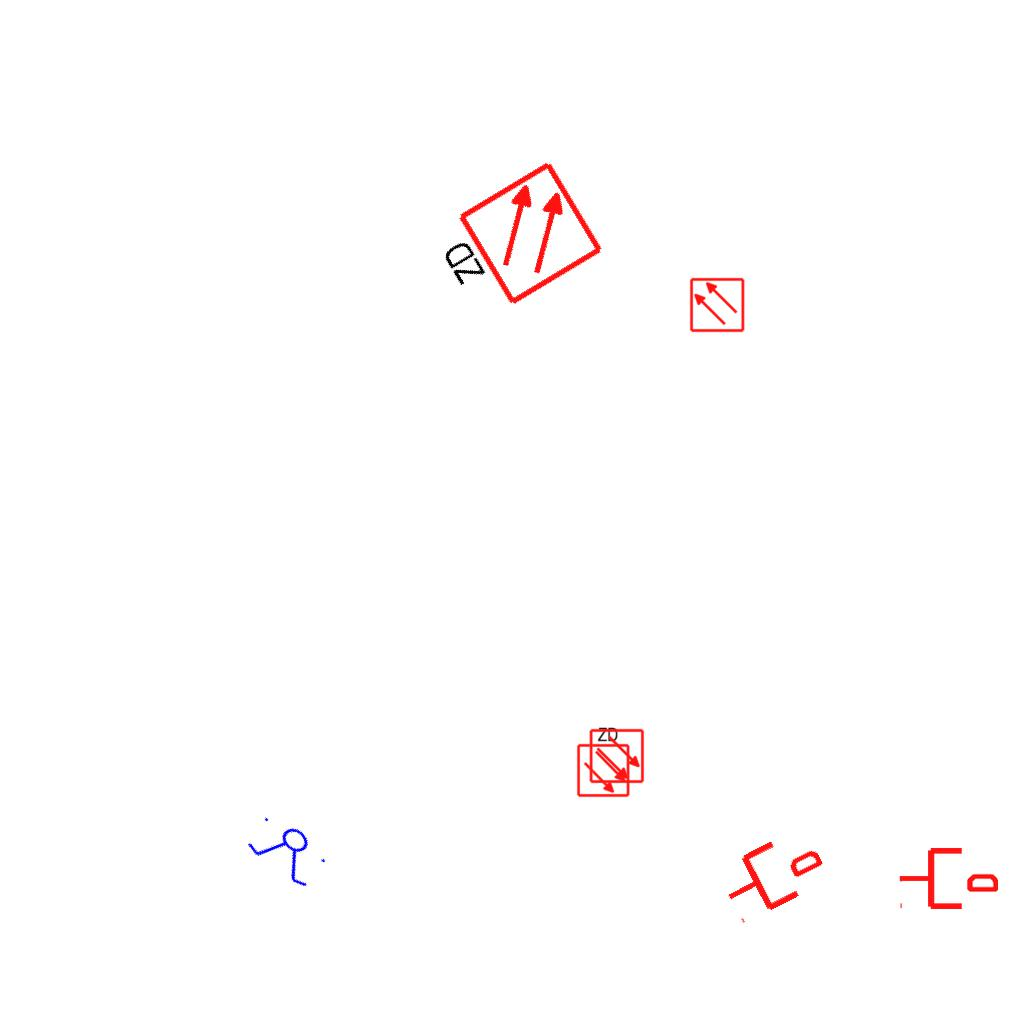Datenanschluss_einfach: (712, 821, 833, 929), (898, 844, 998, 913)
RMO_Rauchmelder_optischer: (689, 277, 745, 333), (589, 728, 645, 784)
Serienschalter: (239, 806, 337, 896)
ZD_Melder_in_Zwischendecke_mit_Revisionsoeffnung_mind_40_x_40_cm: (421, 157, 609, 332), (574, 724, 631, 798)
